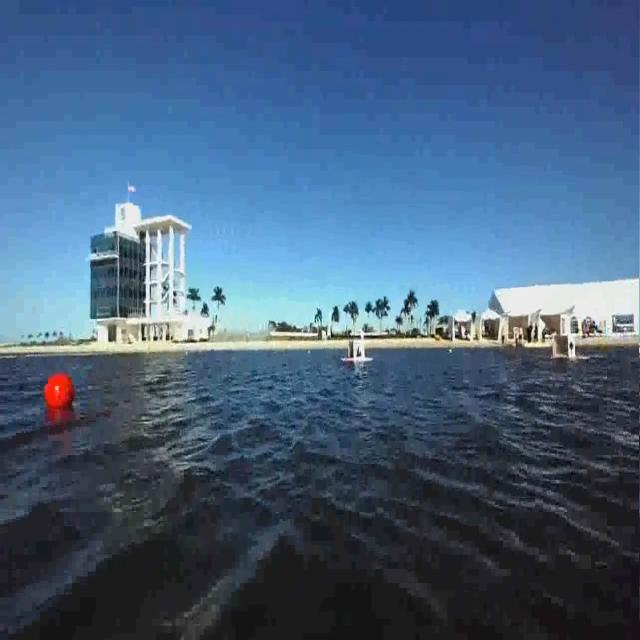red-buoy: (43, 372, 75, 410)
